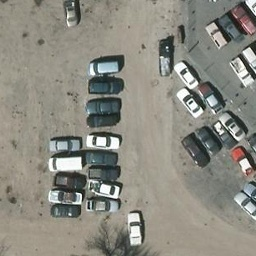car: (229, 56, 256, 90), (232, 2, 256, 37), (174, 61, 198, 90), (178, 90, 202, 119), (199, 84, 223, 113), (184, 137, 208, 166), (196, 126, 220, 155), (211, 121, 235, 150), (218, 112, 242, 141), (231, 149, 255, 178), (87, 55, 121, 75), (124, 211, 144, 244), (157, 39, 175, 74), (86, 96, 121, 114), (47, 133, 82, 151), (220, 15, 244, 40), (236, 193, 256, 220), (89, 77, 122, 93), (86, 133, 119, 149), (47, 154, 80, 170), (86, 148, 119, 164), (54, 173, 87, 189), (48, 188, 81, 204), (47, 203, 80, 219), (86, 199, 119, 215), (87, 181, 120, 197), (85, 165, 120, 179), (63, 3, 81, 26), (206, 24, 224, 47), (245, 178, 256, 205)
